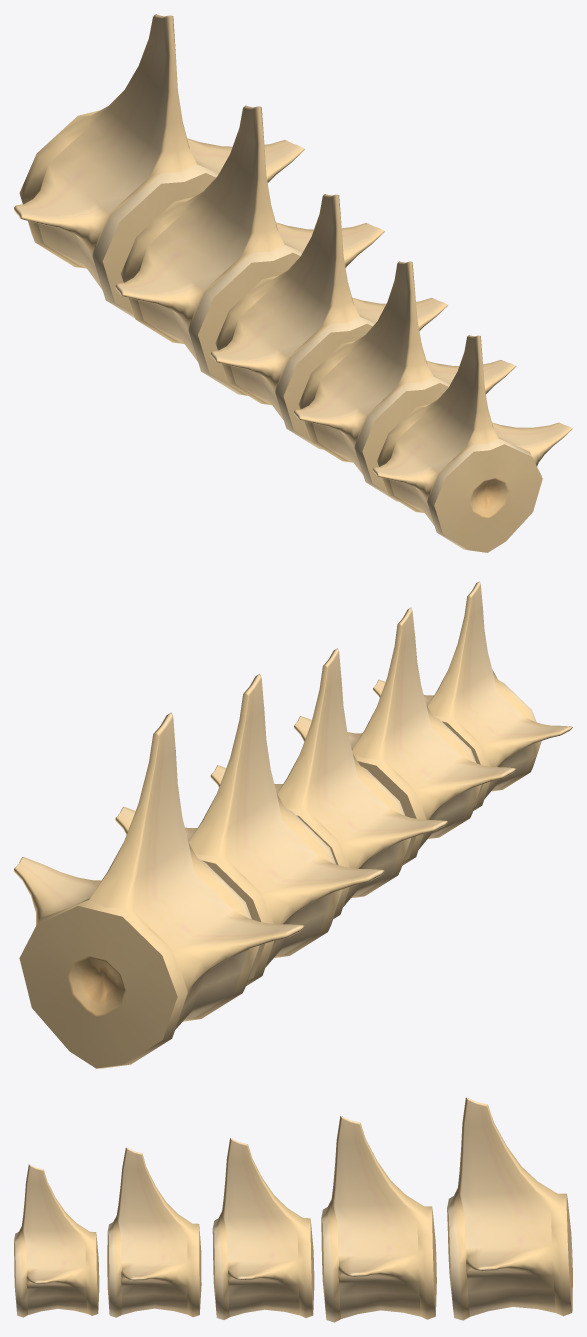
Rendered from SpineChunk3.fbx.
3 views of the same model, one above another, from view 1: azimuth 30°, elevation 25°; view 2: azimuth 150°, elevation 25°; view 3: azimuth 270°, elevation 25° (orthographic). The views are drawn at different scales.
Parts seen in each view (by area): view 1: polySurface22; view 2: polySurface22; view 3: polySurface22.
Part boxes in pixels (left/top/right/bottom): polySurface22: left=14, top=14, right=572, bottom=552; polySurface22: left=14, top=581, right=572, bottom=1068; polySurface22: left=14, top=1097, right=572, bottom=1322.
Bounding box in the file's own units: 2.32 × 2.46 × 5.59.
